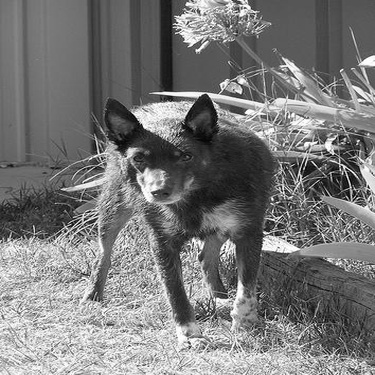dog: (73, 81, 277, 348)
